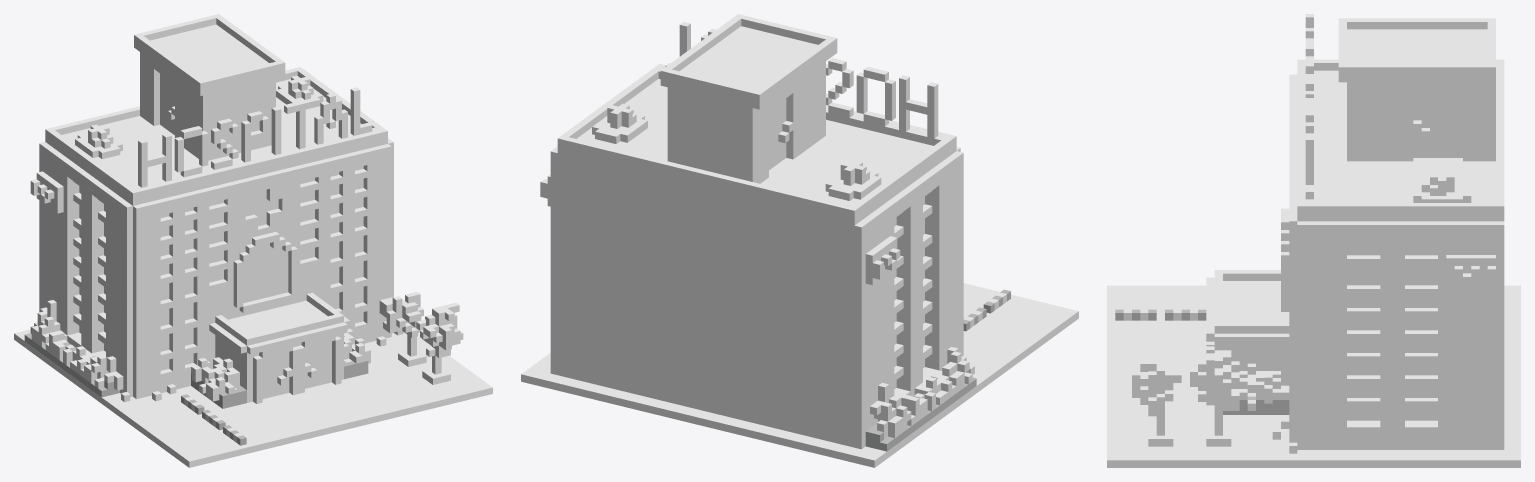
File: Hospital.obj
3 renders of one model, left to right at view 1: azimuth 30°, elevation 25°; view 2: azimuth 150°, elevation 25°; view 3: azimuth 270°, elevation 25°, orthographic. The views are drawn at different scales.
Bounding box in the file's own units: 5 × 4.5 × 5.
